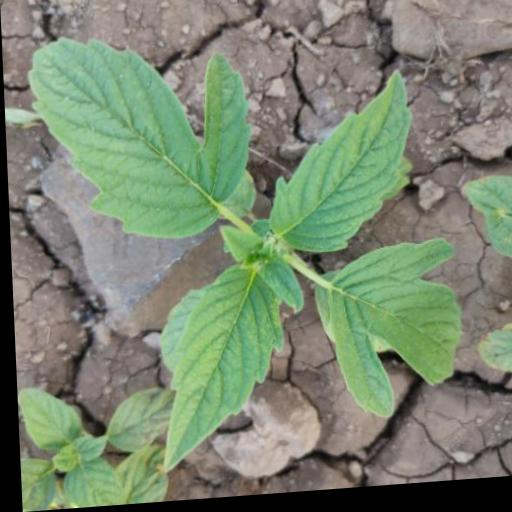crop: (24, 6, 467, 481)
